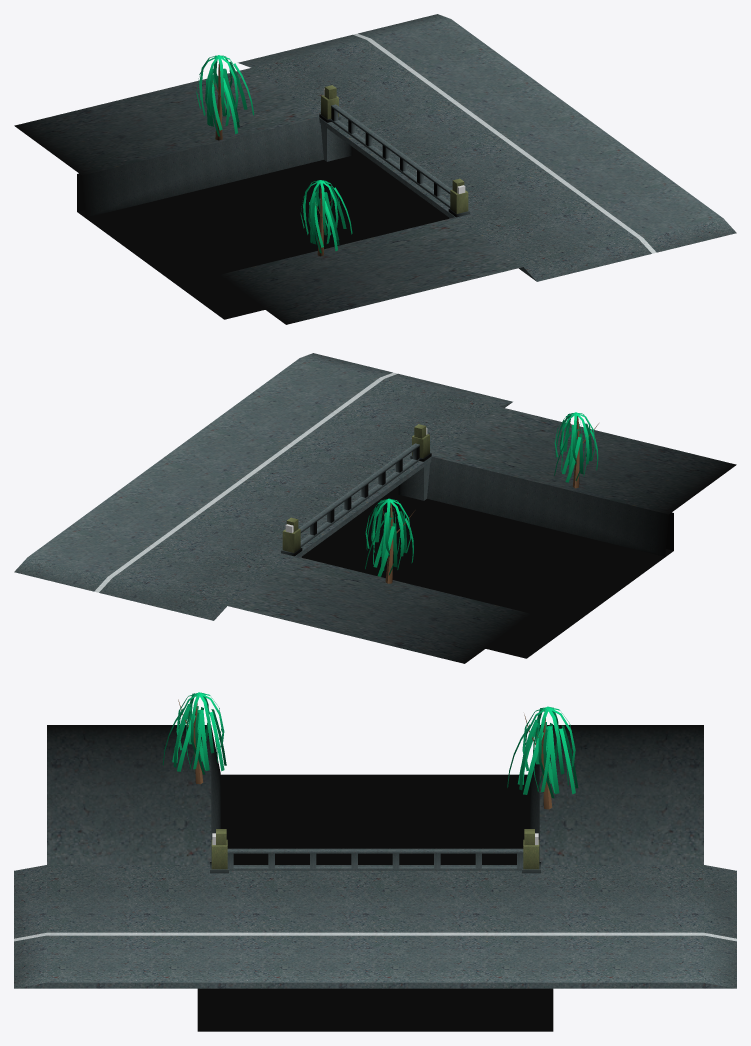
File: SIRAKAWA_R.glb
The picture shows the model from 3 angles, top to bottom: view 1: azimuth 30°, elevation 25°; view 2: azimuth 150°, elevation 25°; view 3: azimuth 270°, elevation 25°; orthographic projection. The views are drawn at different scales.
Visible parts, largest first — view 1: Model, Joint_11, Joint_111; view 2: Model, Joint_11, Joint_111; view 3: Model, Joint_11, Joint_111.
Boxes of the visible parts, x1,y1,x2,y2 form: Model: (14,14,736,324); Joint_11: (77,55,469,319); Joint_111: (300,180,352,256); Model: (14,353,736,663); Joint_11: (281,424,673,658); Joint_111: (554,412,598,488); Model: (14,725,736,988); Joint_11: (197,706,578,1031); Joint_111: (162,692,226,784).
Bounding box in the file's own units: 92.76 × 25.12 × 110.
Materials: 9 (5 with a texture image).
